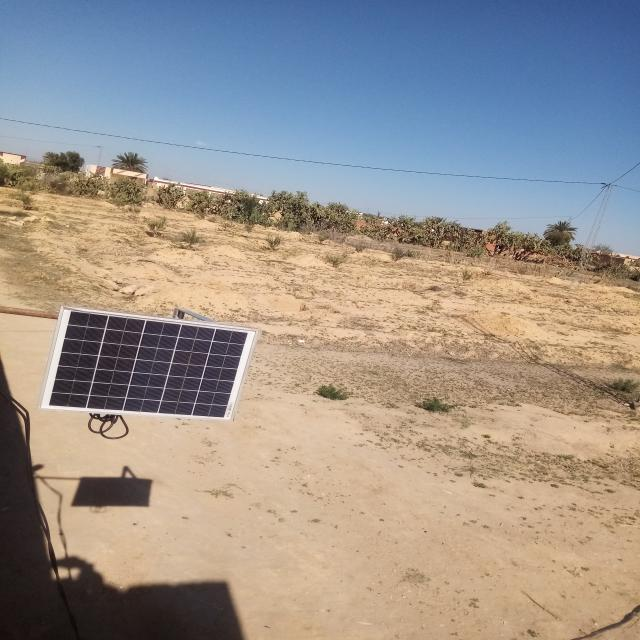no faulty: (38, 307, 258, 421)
